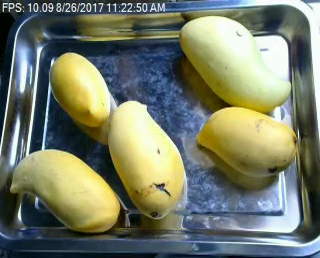Mango: (180, 15, 291, 112), (108, 98, 184, 218), (9, 150, 121, 231), (198, 107, 298, 174), (50, 51, 110, 129)
